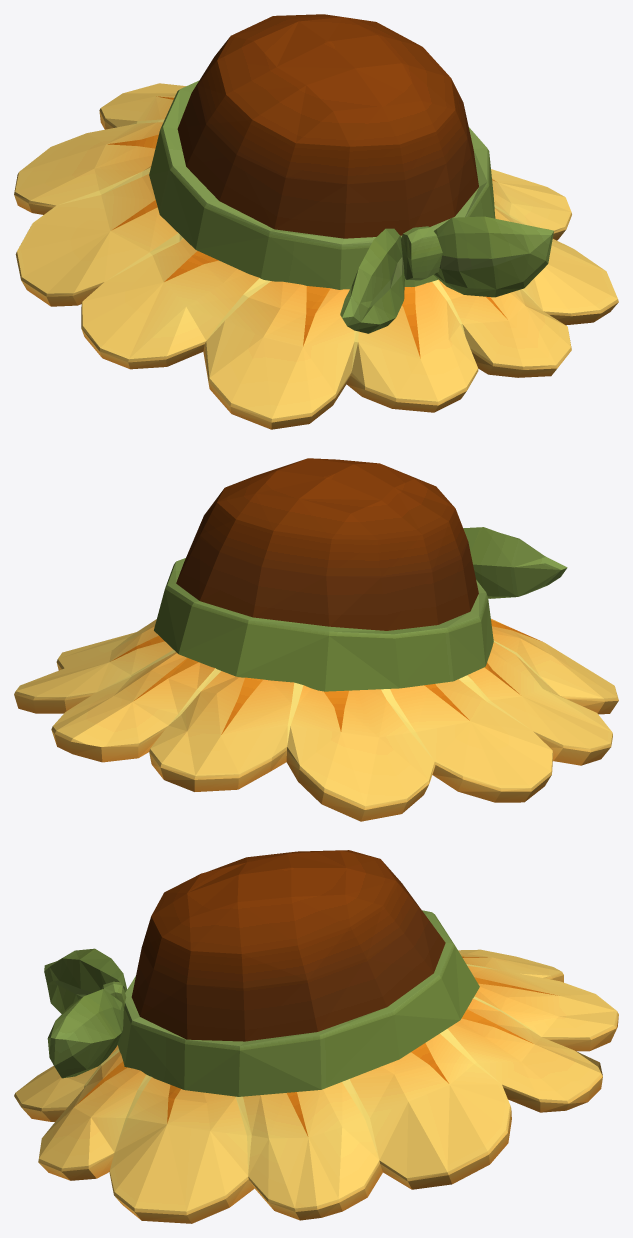
Rendered from CharSkyKid_Hat_SunflowerHat.glb.
3 views of the same model, one above another, from view 1: azimuth 30°, elevation 25°; view 2: azimuth 150°, elevation 25°; view 3: azimuth 270°, elevation 25° (orthographic). The views are drawn at different scales.
Parts seen in each view (by area): view 1: CharSkyKid_Hat_SunflowerHat; view 2: CharSkyKid_Hat_SunflowerHat; view 3: CharSkyKid_Hat_SunflowerHat.
Part boxes in pixels (<box>): CharSkyKid_Hat_SunflowerHat: <box>14,14,618,429</box>; CharSkyKid_Hat_SunflowerHat: <box>14,458,618,821</box>; CharSkyKid_Hat_SunflowerHat: <box>14,850,618,1223</box>.
Size of the model in its own units: 5.35 by 2.68 by 5.7.
Materials: 1 (1 with a texture image).
